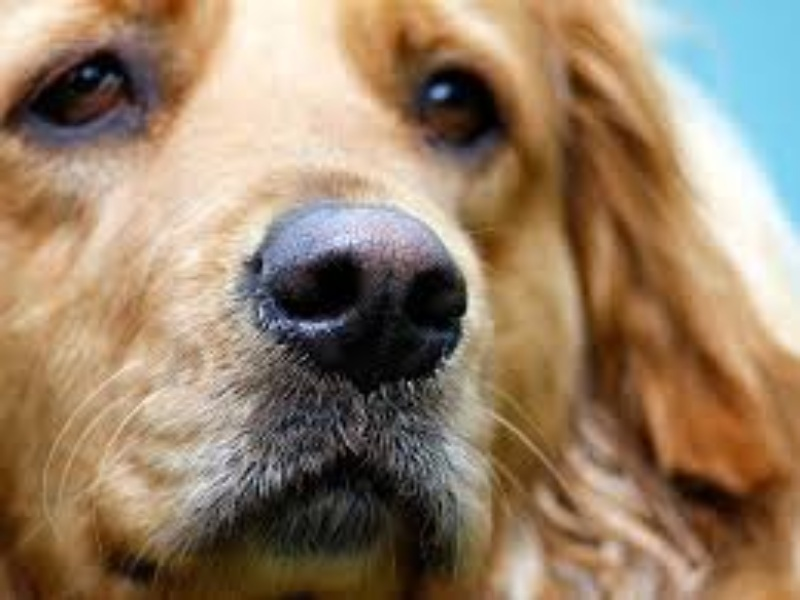dog: (16, 9, 765, 589)
